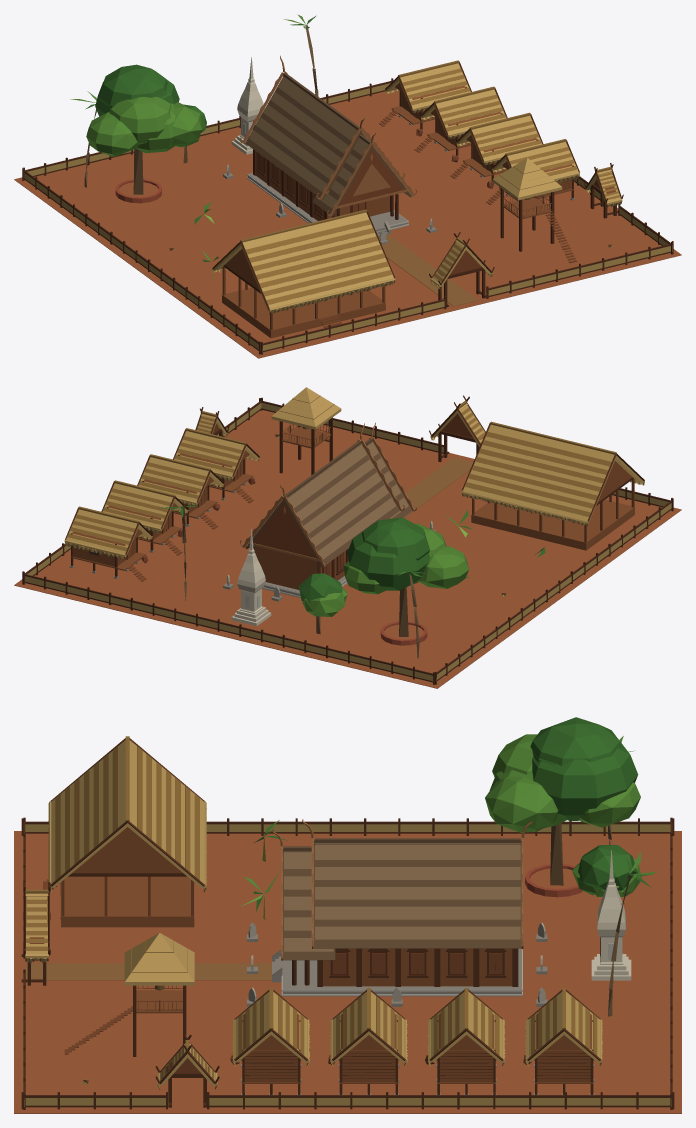
File: temple_2.glb
3 renders of one model, top to bottom at view 1: azimuth 30°, elevation 25°; view 2: azimuth 150°, elevation 25°; view 3: azimuth 270°, elevation 25°, orthographic. The views are drawn at different scales.
Visible parts, largest first — view 1: body; view 2: body; view 3: body.
Part boxes in pixels (x1,y1,x2,y2): body: [14, 14, 681, 358]; body: [14, 387, 681, 688]; body: [14, 717, 681, 1113].
Bounding box in the file's own units: 47.9 × 13.12 × 47.9.
